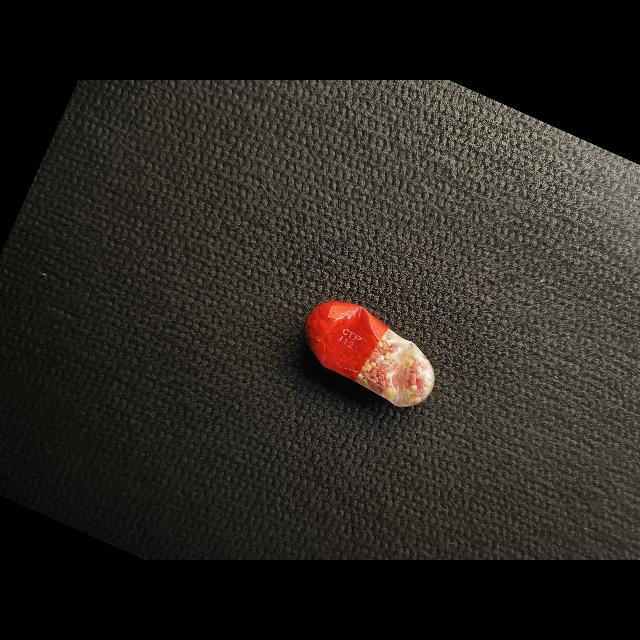Defective Capsule: (304, 301, 435, 407)
